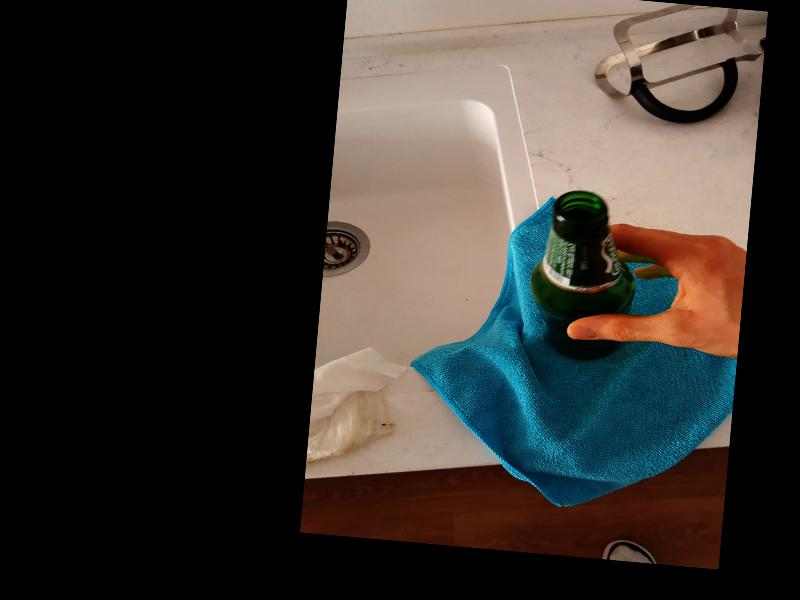Beer: (525, 189, 634, 365)
